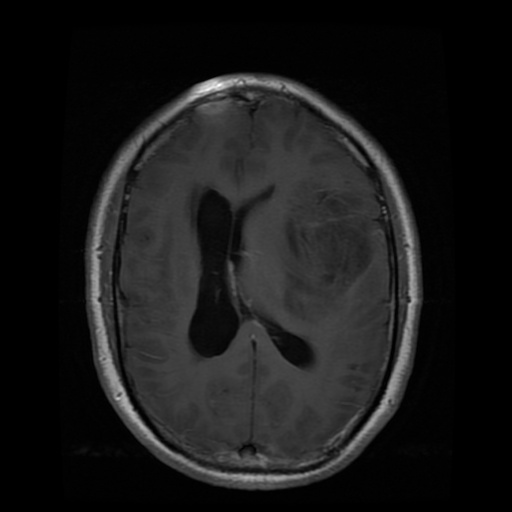glioma: (284, 182, 378, 323)
